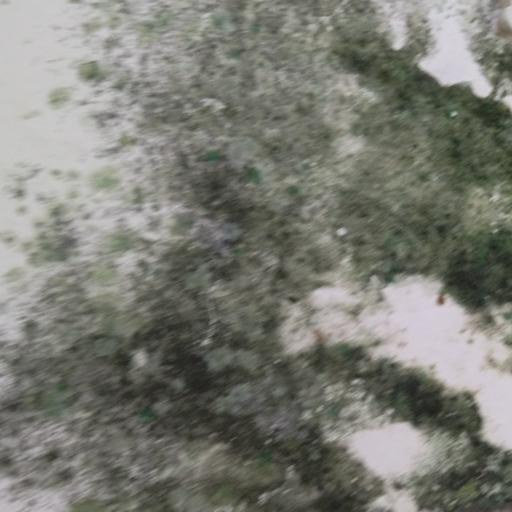algae: (54, 47, 512, 512)
